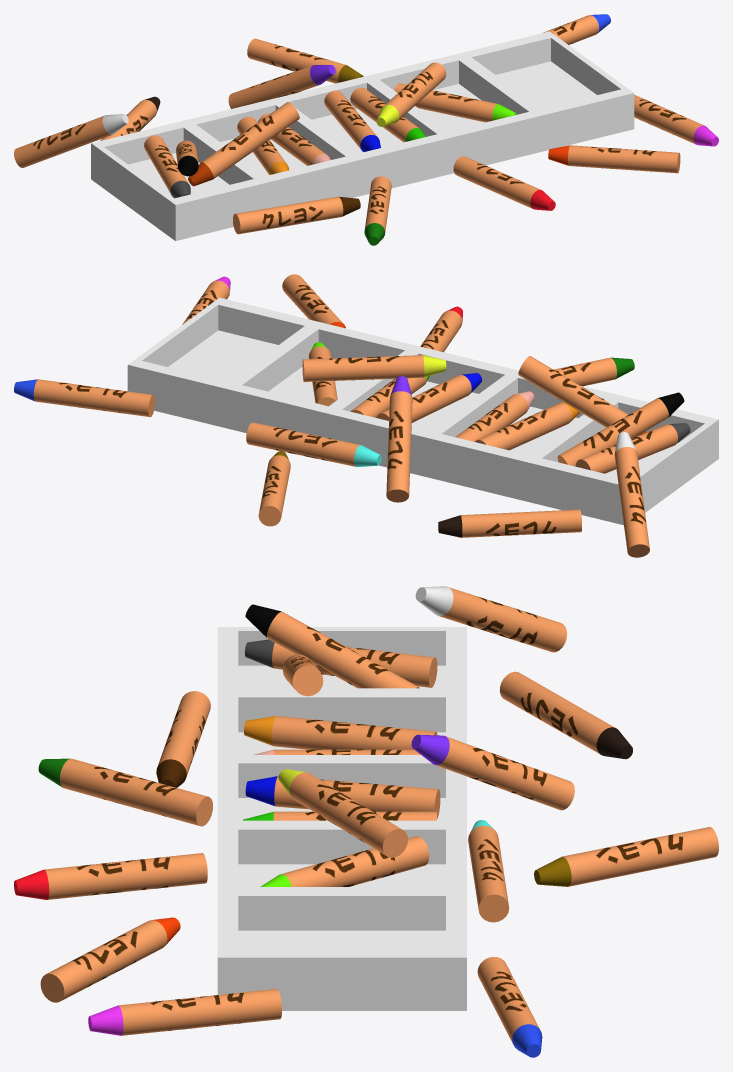
File: crayon_1.fbx
The picture shows the model from 3 angles, top to bottom: view 1: azimuth 30°, elevation 25°; view 2: azimuth 150°, elevation 25°; view 3: azimuth 270°, elevation 25°; orthographic projection. The views are drawn at different scales.
Visible parts, largest first — view 1: crayon21; view 2: crayon21; view 3: crayon21.
Boxes of the visible parts, x1,y1,x2,y2 form: crayon21: (14, 14, 718, 245); crayon21: (14, 274, 718, 557); crayon21: (14, 586, 718, 1057).
Bounding box in the file's own units: 48.34 × 6.34 × 33.95.
1 material, 1 textured.
